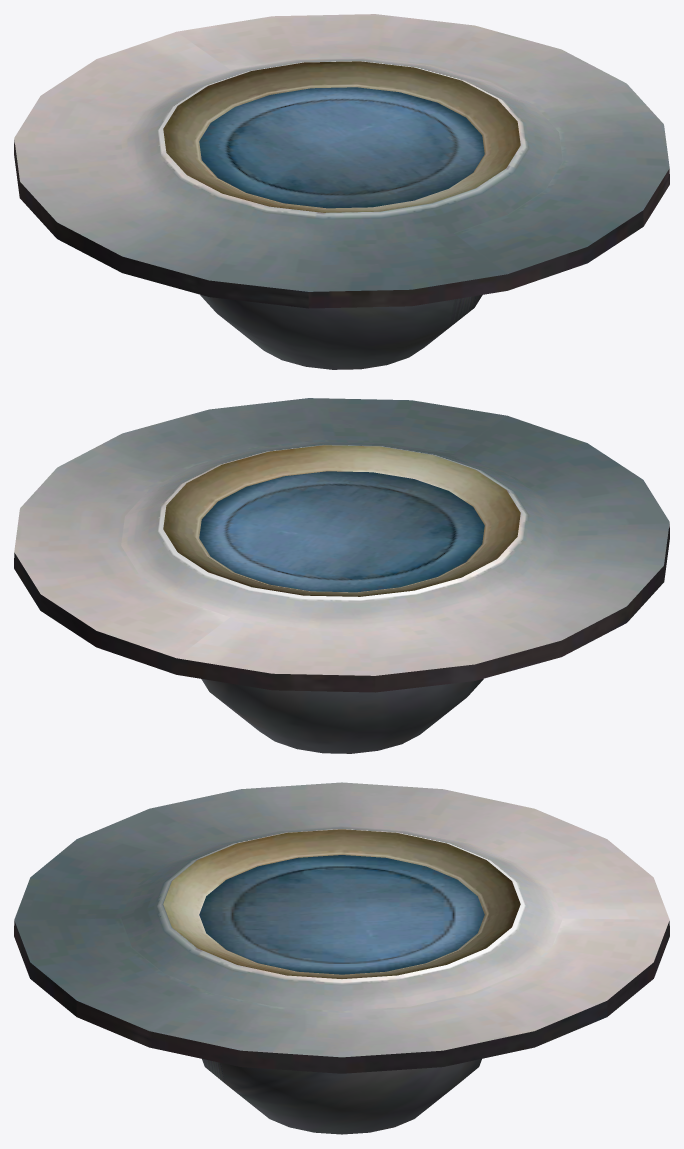
File: frn_jedi_light_table_s02_l0.fbx
3 views of the same model, one above another, from view 1: azimuth 30°, elevation 25°; view 2: azimuth 150°, elevation 25°; view 3: azimuth 270°, elevation 25° (orthographic).
Parts seen in each view (by area): view 1: mesh_node; view 2: mesh_node; view 3: mesh_node.
Part boxes in pixels (x1=…): mesh_node: x1=14, y1=14, x2=669, y2=369; mesh_node: x1=14, y1=398, x2=669, y2=753; mesh_node: x1=14, y1=782, x2=669, y2=1134.
Bounding box in the file's own units: 2.4 × 0.7851 × 2.42.
